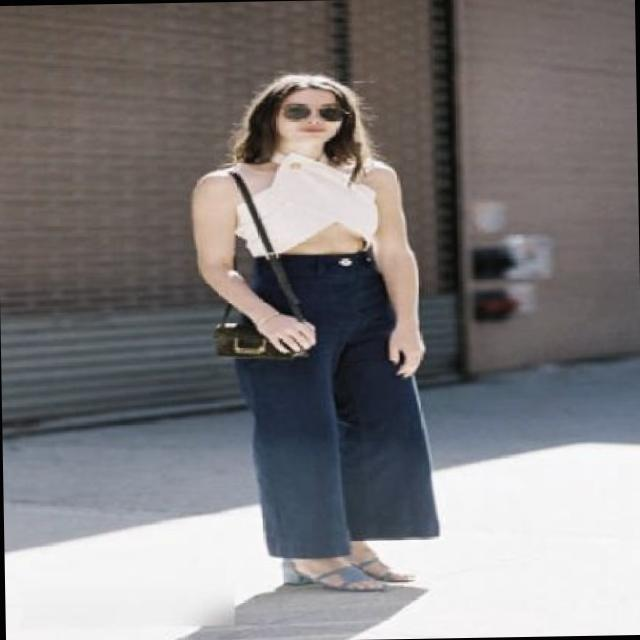Person: (185, 56, 462, 612)
